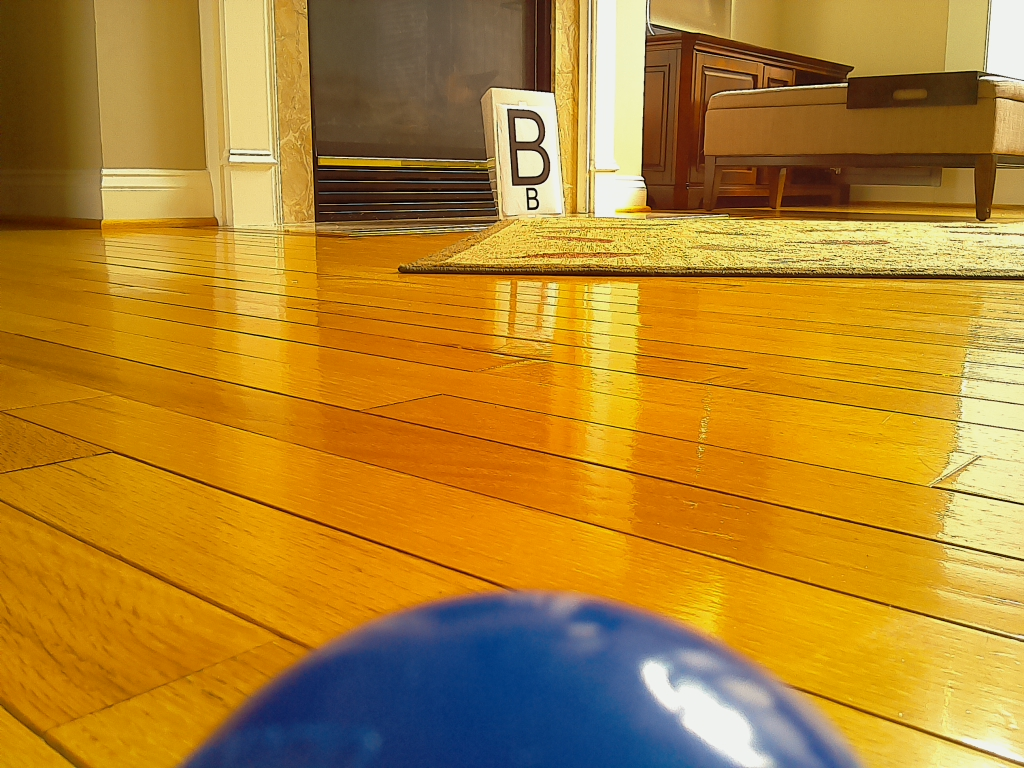letter: (508, 110, 550, 187)
